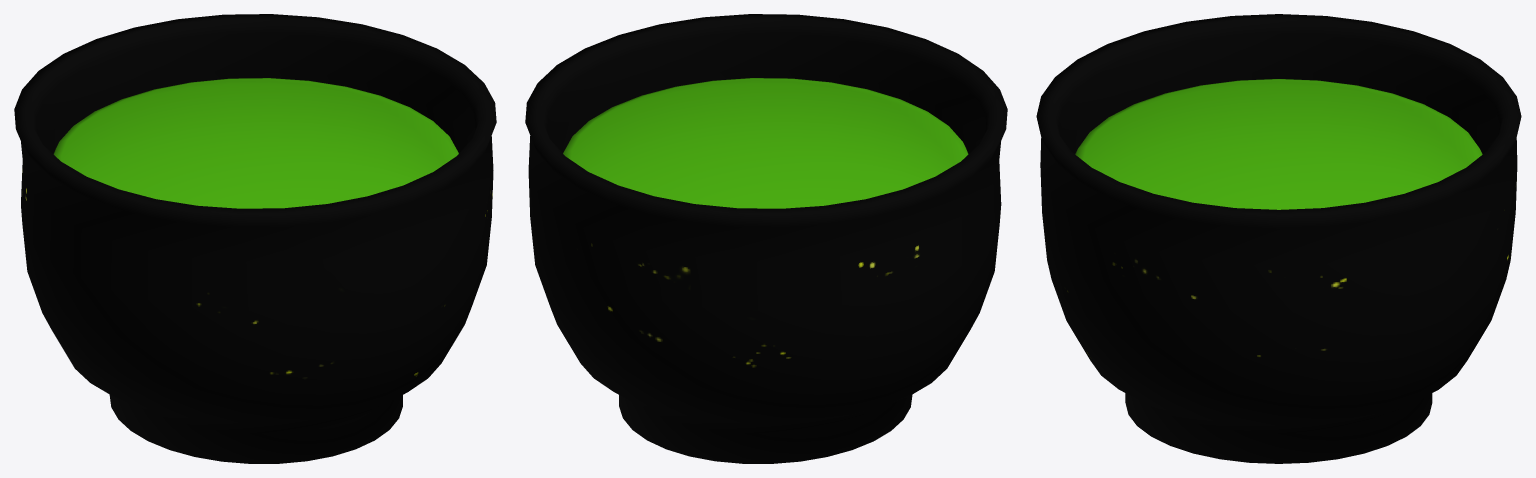
Rendered from yunomi.fbx.
3 renders of one model, left to right at view 1: azimuth 30°, elevation 25°; view 2: azimuth 150°, elevation 25°; view 3: azimuth 270°, elevation 25°, orthographic.
Parts seen in each view (by area): view 1: yunomi, otya; view 2: yunomi, otya; view 3: yunomi, otya.
Part boxes in pixels (x1,y1,x2,y2): yunomi: (14, 14, 496, 463); otya: (53, 78, 458, 208); yunomi: (525, 14, 1007, 463); otya: (563, 78, 968, 208); yunomi: (1036, 14, 1521, 463); otya: (1075, 79, 1482, 209).
Bounding box in the file's own units: 29.64 × 19.38 × 29.64.
